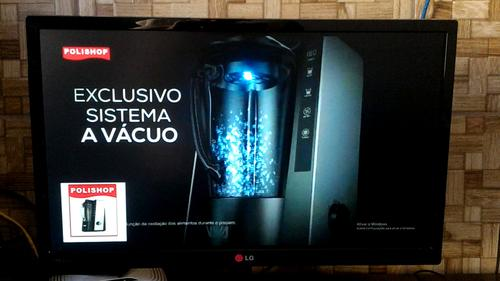Polishop #1: (60, 181, 127, 241)
